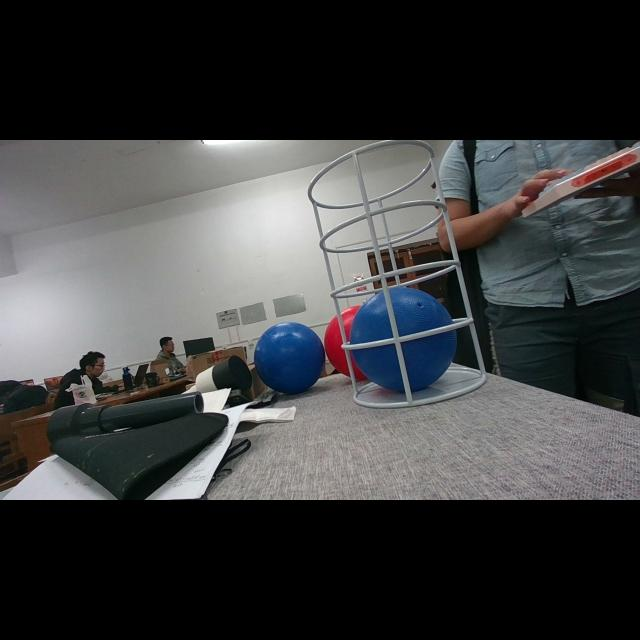B: (349, 286, 457, 394), (253, 322, 325, 394)
R: (324, 306, 396, 380)
S: (307, 140, 489, 412)
